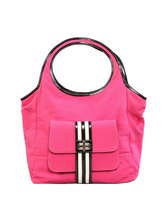bag: (14, 37, 153, 186)
